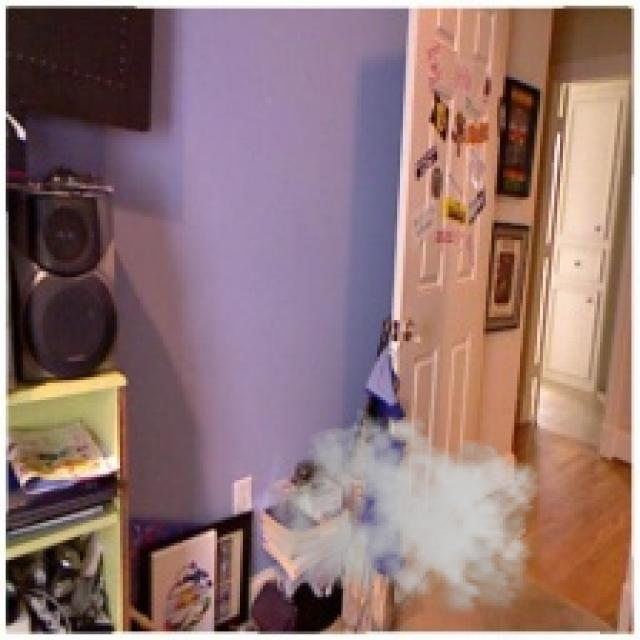Smoke: (272, 408, 548, 626)
